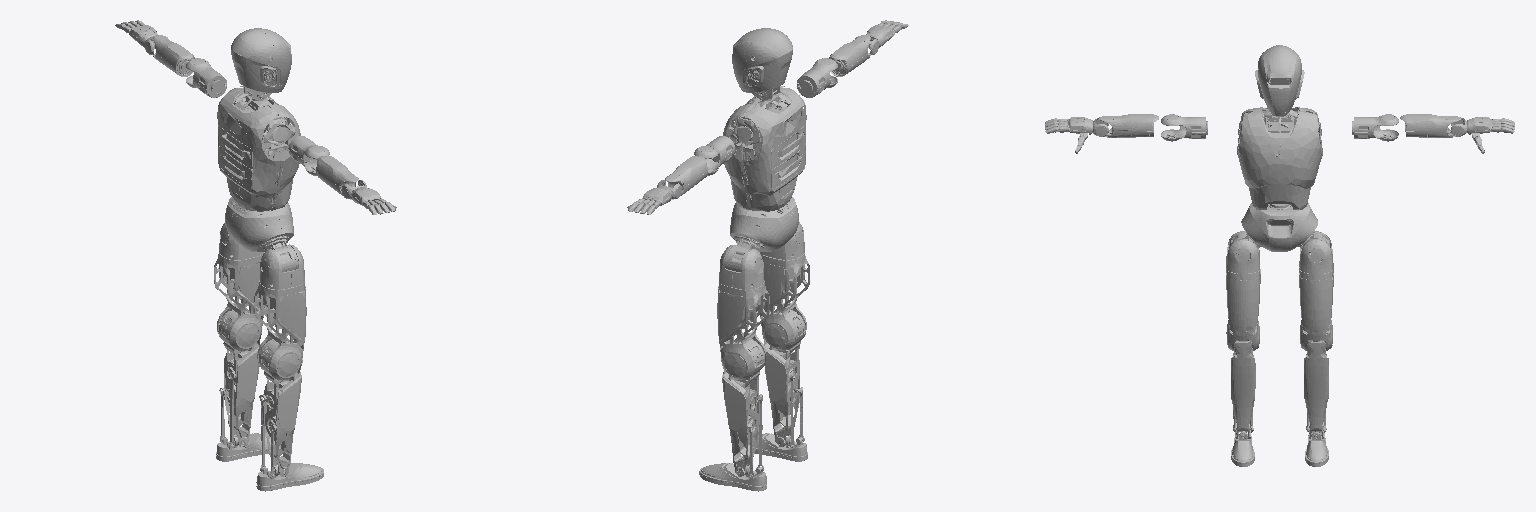
--- Facts derived from the render (not from the file) ---
Views: 3 orthographic renders of the robot side by side, from view 1: azimuth 30°, elevation 25°; view 2: azimuth 150°, elevation 25°; view 3: azimuth 270°, elevation 25°.
Robot: urdf5 — 31 links, 30 joints (21 revolute, 9 fixed); root link base; default pose: all joints at 0.
Visible links, largest first — view 1: waist_pitch, right_hip_yaw, right_knee_pitch, head_pitch, left_knee_pitch, left_hip_yaw, base, right_hip_roll, right_ankle_roll, left_shoulder_yaw, left_elbow_yaw, right_elbow_yaw (+6 smaller); view 2: waist_pitch, left_hip_yaw, left_knee_pitch, head_pitch, right_knee_pitch, right_hip_yaw, base, left_hip_roll, left_ankle_roll, right_shoulder_yaw, right_elbow_yaw, left_elbow_yaw (+6 smaller); view 3: waist_pitch, base, head_pitch, right_hip_yaw, left_hip_yaw, right_knee_pitch, left_knee_pitch, left_elbow_yaw, right_elbow_yaw, left_wrist_roll, right_wrist_roll, left_hip_roll (+5 smaller).
Boxes of the visible links, x1,y1,x2,y2 form: waist_pitch: (217, 86, 300, 211); right_hip_yaw: (254, 280, 306, 380); right_knee_pitch: (259, 339, 302, 478); head_pitch: (231, 28, 291, 99); left_knee_pitch: (218, 310, 261, 448); left_hip_yaw: (214, 252, 264, 350); base: (225, 197, 293, 251); right_hip_roll: (260, 244, 304, 289); right_ankle_roll: (256, 463, 323, 491); left_shoulder_yaw: (186, 58, 226, 97); left_elbow_yaw: (153, 35, 194, 76); right_elbow_yaw: (316, 156, 358, 199); waist_pitch: (723, 86, 806, 211); left_hip_yaw: (717, 281, 769, 379); left_knee_pitch: (721, 339, 764, 478); head_pitch: (732, 28, 792, 99); right_knee_pitch: (762, 310, 805, 449); right_hip_yaw: (759, 252, 809, 350); base: (730, 197, 798, 251); left_hip_roll: (719, 245, 764, 289); left_ankle_roll: (699, 463, 766, 491); right_shoulder_yaw: (797, 58, 837, 97); right_elbow_yaw: (829, 35, 870, 76); left_elbow_yaw: (665, 156, 707, 199); waist_pitch: (1237, 107, 1322, 209); base: (1241, 203, 1317, 251); head_pitch: (1255, 45, 1304, 116); right_hip_yaw: (1226, 268, 1260, 350); left_hip_yaw: (1299, 267, 1333, 350); right_knee_pitch: (1231, 331, 1255, 438); left_knee_pitch: (1304, 331, 1328, 438); left_elbow_yaw: (1400, 114, 1460, 137); right_elbow_yaw: (1098, 114, 1158, 137); left_wrist_roll: (1451, 117, 1514, 153); right_wrist_roll: (1045, 117, 1108, 153); left_hip_roll: (1299, 231, 1333, 273).
Size in the robot's own frame: 0.295 by 1.86 by 1.73 metres.
22 mesh visuals loaded from 31 distinct referenced files (22 binary STL); not drawn: 9 (reference not matched to a file when rendering).

URDF robot description (urdf5):
<?xml version="1.0" encoding="utf-8"?>
<!-- This URDF was automatically created by SolidWorks to URDF Exporter! Originally created by Stephen Brawner ([email redacted]) 
     Commit Version: 1.6.0-4-g7f85cfe  Build Version: 1.6.7995.38578
     For more information, please see http://wiki.ros.org/sw_urdf_exporter -->
<robot
  name="urdf5">
  <mujoco>
    <compiler meshdir="../meshes" discardvisual="false"/>
  </mujoco>

  <!-- [CAUTION] uncomment when convert to mujoco -->
     <!-- <link name="world"></link>
  <joint name="floating_base_joint" type="floating">
    <parent link="world"/>
      <child link="base"/>
    </joint>
   -->
  <link
    name="base">
    <inertial>
      <origin
        xyz="-0.0017221 9.9273E-06 0.078502"
        rpy="0 0 0" />
      <mass
        value="8.80559204" />
      <inertia
        ixx="0.06505901"
        ixy="-0.00001504"
        ixz="0.00007043"
        iyy="0.03392367"
        iyz="-0.00000057"
        izz="0.06060049" />
    </inertial>
    <visual>
      <origin
        xyz="0 0 0"
        rpy="0 0 0" />
      <geometry>
        <mesh
          filename="../meshes/base_link.STL" />
      </geometry>
      <material
        name="">
        <color
          rgba="0.75294 0.75294 0.75294 1" />
      </material>
    </visual>
    <!-- <collision>
      <origin
        xyz="0 0 0"
        rpy="0 0 0" />
      <geometry>
        <mesh
          filename="../meshes/base_link.STL" />
      </geometry>
    </collision> -->
    <collision>
      <origin
        xyz="0 0 0.3"
        rpy="0 0 0" />
      <geometry>
        <box
          size="0.2 0.25 0.4" />
      </geometry>
    </collision>
  </link>
  <link
    name="0waist_yaw">
    <inertial>
      <origin
        xyz="0.02077 0.002139 0.044432"
        rpy="0 0 0" />
      <mass
        value="1.35227213" />
      <inertia
        ixx="0.00145099"
        ixy="0.00001293"
        ixz="-0.0002088"
        iyy="0.00155537"
        iyz="0.00001574"
        izz="0.00144129" />
    </inertial>
    <visual>
      <origin
        xyz="0 0 0"
        rpy="0 0 0" />
      <geometry>
        <mesh
          filename="../meshes/0waist_yaw.STL" />
      </geometry>
      <material
        name="">
        <color
          rgba="0.75294 0.75294 0.75294 1" />
      </material>
    </visual>
    <!--collision>
      <origin
        xyz="0 0 0"
        rpy="0 0 0" />
      <geometry>
        <mesh
          filename="../meshes/0waist_yaw.STL" />
      </geometry>
    </collision-->
  </link>
  <joint
    name="0waist_yaw"
    type="revolute">
    <origin
      xyz="0.0010247 0 0.16995"
      rpy="0 0 0" />
    <parent
      link="base" />
    <child
      link="0waist_yaw" />
    <axis
      xyz="0 0 1" />
    <limit
      lower="-3.14"
      upper="3.14"
      effort="300.0"
      velocity="10.0" />
  </joint>
  <link
    name="waist_pitch">
    <inertial>
      <origin
        xyz="-0.0384853936557413 0.0017960963283048 0.164731708770369"
        rpy="0 0 0" />
      <mass
        value="10.28228466" />
      <inertia
        ixx="0.19115274"
        ixy="-0.00014699"
        ixz="-0.00225152"
        iyy="0.11520537"
        iyz="0.00151447"
        izz="0.13908471" />
    </inertial>
    <visual>
      <origin
        xyz="0 0 0"
        rpy="0 0 0" />
      <geometry>
        <mesh
          filename="../meshes/waist_pitch.STL" />
      </geometry>
      <material
        name="">
        <color
          rgba="0.752941176470588 0.752941176470588 0.752941176470588 1" />
      </material>
    </visual>
    <!--collision>
      <origin
        xyz="0 0 0"
        rpy="0 0 0" />
      <geometry>
        <mesh
          filename="../meshes/waist_pitch.STL" />
      </geometry>
    </collision-->
  </link>
  <joint
    name="waist_pitch"
    type="fixed">
    <origin
      xyz="0.03 0 0.0555"
      rpy="0 0 0" />
    <parent
      link="0waist_yaw" />
    <child
      link="waist_pitch" />
    <axis
      xyz="0 1 0" />
    <limit
      lower="-3.14"
      upper="3.14"
      effort="300.0"
      velocity="10.0" />
  </joint>
  <link
    name="1left_shoulder_pitch">
    <inertial>
      <origin
        xyz="0.011253 0.034606 0.0013962"
        rpy="0 0 0" />
      <mass
        value="1.24676052" />
      <inertia
        ixx="0.00150509"
        ixy="-0.00005887"
        ixz="0.00007608"
        iyy="0.00147738"
        iyz="0.00009631"
        izz="0.00135553" />
    </inertial>
    <visual>
      <origin
        xyz="0 0 0"
        rpy="0 0 0" />
      <geometry>
        <mesh
          filename="../meshes/1left_shoulder_pitch.STL" />
      </geometry>
      <material
        name="">
        <color
          rgba="0.75294 0.75294 0.75294 1" />
      </material>
    </visual>
    <!--collision>
      <origin
        xyz="0 0 0"
        rpy="0 0 0" />
      <geometry>
        <mesh
          filename="../meshes/1left_shoulder_pitch.STL" />
      </geometry>
    </collision-->
  </link>
  <joint
    name="1left_shoulder_pitch"
    type="revolute">
    <origin
      xyz="-0.045 0.16306 0.26719"
      rpy="0.13963 0 0" />
    <parent
      link="waist_pitch" />
    <child
      link="1left_shoulder_pitch" />
    <axis
      xyz="0 1 0" />
    <limit
      lower="-3.14"
      upper="3.14"
      effort="300.0"
      velocity="10.0" />
  </joint>
  <link
    name="1left_shoulder_roll">
    <inertial>
      <origin
        xyz="0.0068529 0.02305 0.0095938"
        rpy="0 0 0" />
      <mass
        value="0.24916820" />
      <inertia
        ixx="0.00054423"
        ixy="0.00004049"
        ixz="0.00001947"
        iyy="0.00059850"
        iyz="-0.00003069"
        izz="0.00069187" />
    </inertial>
    <visual>
      <origin
        xyz="0 0 0"
        rpy="0 0 0" />
      <geometry>
        <mesh
          filename="../meshes/1left_shoulder_roll.STL" />
      </geometry>
      <material
        name="">
        <color
          rgba="0.75294 0.75294 0.75294 1" />
      </material>
    </visual>
    <!--collision>
      <origin
        xyz="0 0 0"
        rpy="0 0 0" />
      <geometry>
        <mesh
          filename="../meshes/1left_shoulder_roll.STL" />
      </geometry>
    </collision-->
  </link>
  <joint
    name="1left_shoulder_roll"
    type="revolute">
    <origin
      xyz="0 0.048 -0.015"
      rpy="-0.13963 0 0" />
    <parent
      link="1left_shoulder_pitch" />
    <child
      link="1left_shoulder_roll" />
    <axis
      xyz="1 0 0" />
    <limit
      lower="-3.14"
      upper="3.14"
      effort="300.0"
      velocity="10.0" />
  </joint>
  <link
    name="left_shoulder_yaw">
    <inertial>
      <origin
        xyz="-0.00050778 0.064908 0.0015998"
        rpy="0 0 0" />
      <mass
        value="0.91467672" />
      <inertia
        ixx="0.00191070"
        ixy="0.00001224"
        ixz="-0.00000012"
        iyy="0.00091729"
        iyz="-0.00004757"
        izz="0.00184017" />
    </inertial>
    <visual>
      <origin
        xyz="0 0 0"
        rpy="0 0 0" />
      <geometry>
        <mesh
          filename="../meshes/left_shoulder_yaw.STL" />
      </geometry>
      <material
        name="">
        <color
          rgba="0.75294 0.75294 0.75294 1" />
      </material>
    </visual>
    <!--collision>
      <origin
        xyz="0 0 0"
        rpy="0 0 0" />
      <geometry>
        <mesh
          filename="../meshes/left_shoulder_yaw.STL" />
      </geometry>
    </collision-->
  </link>
  <joint
    name="left_shoulder_yaw"
    type="fixed">
    <origin
      xyz="0 0.07205 0.01237"
      rpy="0 0 0" />
    <parent
      link="1left_shoulder_roll" />
    <child
      link="left_shoulder_yaw" />
    <axis
      xyz="0 1 0" />
    <limit
      lower="-3.14"
      upper="3.14"
      effort="300.0"
      velocity="10.0" />
  </joint>
  <link
    name="1left_elbow_pitch">
    <inertial>
      <origin
        xyz="-0.0013804 0.014214 -0.0011072"
        rpy="0 0 0" />
      <mass
        value="0.96823646" />
      <inertia
        ixx="0.00110137"
        ixy="0.00002929"
        ixz="-0.00000334"
        iyy="0.00089963"
        iyz="0.00003570"
        izz="0.00109827" />
    </inertial>
    <visual>
      <origin
        xyz="0 0 0"
        rpy="0 0 0" />
      <geometry>
        <mesh
          filename="../meshes/1left_elbow_pitch.STL" />
      </geometry>
      <material
        name="">
        <color
          rgba="0.75294 0.75294 0.75294 1" />
      </material>
    </visual>
    <!--collision>
      <origin
        xyz="0 0 0"
        rpy="0 0 0" />
      <geometry>
        <mesh
          filename="../meshes/1left_elbow_pitch.STL" />
      </geometry>
    </collision-->
  </link>
  <joint
    name="1left_elbow_pitch"
    type="revolute">
    <origin
      xyz="0 0.142 0"
      rpy="0 0 0" />
    <parent
      link="left_shoulder_yaw" />
    <child
      link="1left_elbow_pitch" />
    <axis
      xyz="0 0 1" />
    <limit
      lower="-3.14"
      upper="3.14"
      effort="300.0"
      velocity="10.0" />
  </joint>
  <link
    name="left_elbow_yaw">
    <inertial>
      <origin
        xyz="-4.2404E-06 0.090739 -0.0022072"
        rpy="0 0 0" />
      <mass
        value="1.61695316" />
      <inertia
        ixx="0.00444254"
        ixy="0.00000405"
        ixz="0.00000286"
        iyy="0.00112056"
        iyz="0.00022804"
        izz="0.00428917" />
    </inertial>
    <visual>
      <origin
        xyz="0 0 0"
        rpy="0 0 0" />
      <geometry>
        <mesh
          filename="../meshes/left_elbow_yaw.STL" />
      </geometry>
      <material
        name="">
        <color
          rgba="0.75294 0.75294 0.75294 1" />
      </material>
    </visual>
    <!--collision>
      <origin
        xyz="0 0 0"
        rpy="0 0 0" />
      <geometry>
        <mesh
          filename="../meshes/left_elbow_yaw.STL" />
      </geometry>
    </collision-->
  </link>
  <joint
    name="left_elbow_yaw"
    type="fixed">
    <origin
      xyz="-0.0081851 0.0684 -5.392E-05"
      rpy="0 0 0" />
    <parent
      link="1left_elbow_pitch" />
    <child
      link="left_elbow_yaw" />
    <axis
      xyz="0 1 0" />
    <limit
      lower="-3.14"
      upper="3.14"
      effort="300.0"
      velocity="10.0" />
  </joint>
  <link
    name="1left_wrist_pitch">
    <inertial>
      <origin
        xyz="0.00847041858689116 0.00453400666111203 -0.000647129716278116"
        rpy="0 0 0" />
      <mass
        value="0.68194696" />
      <inertia
        ixx="0.00031510"
        ixy="0.00000000"
        ixz="-0.00000302"
        iyy="0.00038513"
        iyz="-0.00000011"
        izz="0.00035596" />
    </inertial>
    <visual>
      <origin
        xyz="0 0 0"
        rpy="0 0 0" />
      <geometry>
        <mesh
          filename="../meshes/1left_wrist_pitch.STL" />
      </geometry>
      <material
        name="">
        <color
          rgba="0.752941176470588 0.752941176470588 0.752941176470588 1" />
      </material>
    </visual>
    <!--collision>
      <origin
        xyz="0 0 0"
        rpy="0 0 0" />
      <geometry>
        <mesh
          filename="../meshes/1left_wrist_pitch.STL" />
      </geometry>
    </collision-->
  </link>
  <joint
    name="1left_wrist_pitch"
    type="revolute">
    <origin
      xyz="0 0.203 5.392E-05"
      rpy="0 0 0" />
    <parent
      link="left_elbow_yaw" />
    <child
      link="1left_wrist_pitch" />
    <axis
      xyz="0 0 1" />
    <limit
      lower="-3.14"
      upper="3.14"
      effort="300.0"
      velocity="10.0" />
  </joint>
  <link
    name="left_wrist_roll">
    <inertial>
      <origin
        xyz="-0.0026765098743331 0.0932230814686578 -0.00310005917547751"
        rpy="0 0 0" />
      <mass
        value="0.70000000" />
      <inertia
        ixx="0.00164249"
        ixy="0.00007715"
        ixz="0.00021137"
        iyy="0.00089043"
        iyz="-0.00010543"
        izz="0.00217172" />
    </inertial>
    <visual>
      <origin
        xyz="0 0 0"
        rpy="0 0 0" />
      <geometry>
        <mesh
          filename="../meshes/left_wrist_roll.STL" />
      </geometry>
      <material
        name="">
        <color
          rgba="0.752941176470588 0.752941176470588 0.752941176470588 1" />
      </material>
    </visual>
    <!--collision>
      <origin
        xyz="0 0 0"
        rpy="0 0 0" />
      <geometry>
        <mesh
          filename="../meshes/left_wrist_roll.STL" />
      </geometry>
    </collision-->
  </link>
  <joint
    name="left_wrist_roll"
    type="fixed">
    <origin
      xyz="0.0081861 0.005 0.00024608"
      rpy="0 0 0" />
    <parent
      link="1left_wrist_pitch" />
    <child
      link="left_wrist_roll" />
    <axis
      xyz="1 0 0" />
    <limit
      lower="-3.14"
      upper="3.14"
      effort="300.0"
      velocity="10.0" />
  </joint>
  <link
    name="1right_shoulder_pitch">
    <inertial>
      <origin
        xyz="0.0112521341386398 -0.0345906481596432 0.00140406395538412"
        rpy="0 0 0" />
      <mass
        value="1.24685052" />
      <inertia
        ixx="0.00150547"
        ixy="0.00005893"
        ixz="0.00007617"
        iyy="0.00147760"
        iyz="-0.00009651"
        izz="0.00135577" />
    </inertial>
    <visual>
      <origin
        xyz="0 0 0"
        rpy="0 0 0" />
      <geometry>
        <mesh
          filename="../meshes/1right_shoulder_pitch.STL" />
      </geometry>
      <material
        name="">
        <color
          rgba="0.752941176470588 0.752941176470588 0.752941176470588 1" />
      </material>
    </visual>
    <!--collision>
      <origin
        xyz="0 0 0"
        rpy="0 0 0" />
      <geometry>
        <mesh
          filename="../meshes/1right_shoulder_pitch.STL" />
      </geometry>
    </collision-->
  </link>
  <joint
    name="1right_shoulder_pitch"
    type="revolute">
    <origin
      xyz="-0.045 -0.16306 0.26719"
      rpy="-0.13963 0 0" />
    <parent
      link="waist_pitch" />
    <child
      link="1right_shoulder_pitch" />
    <axis
      xyz="0 1 0" />
    <limit
      lower="-3.14"
      upper="3.14"
      effort="300.0"
      velocity="10.0" />
  </joint>
  <link
    name="1right_shoulder_roll">
    <inertial>
      <origin
        xyz="0.00684462181795377 -0.023042827171319 0.00959240613331935"
        rpy="0 0 0" />
      <mass
        value="0.24917773" />
      <inertia
        ixx="0.00055212"
        ixy="-0.00003627"
        ixz="0.00001721"
        iyy="0.00060479"
        iyz="0.00003340"
        izz="0.00070132" />
    </inertial>
    <visual>
      <origin
        xyz="0 0 0"
        rpy="0 0 0" />
      <geometry>
        <mesh
          filename="../meshes/1right_shoulder_roll.STL" />
      </geometry>
      <material
        name="">
        <color
          rgba="0.752941176470588 0.752941176470588 0.752941176470588 1" />
      </material>
    </visual>
    <!--collision>
      <origin
        xyz="0 0 0"
        rpy="0 0 0" />
      <geometry>
        <mesh
          filename="../meshes/1right_shoulder_roll.STL" />
      </geometry>
    </collision-->
  </link>
  <joint
    name="1right_shoulder_roll"
    type="revolute">
    <origin
      xyz="0 -0.048 -0.015"
      rpy="0.13963 0 0" />
    <parent
      link="1right_shoulder_pitch" />
    <child
      link="1right_shoulder_roll" />
    <axis
      xyz="1 0 0" />
    <limit
      lower="-3.14"
      upper="3.14"
      effort="300.0"
      velocity="10.0" />
  </joint>
  <link
    name="right_shoulder_yaw">
    <inertial>
      <origin
        xyz="-0.000506858484631955 -0.0645515552123688 0.00168134263284647"
        rpy="0 0 0" />
      <mass
        value="0.91457840" />
      <inertia
        ixx="0.00189816"
        ixy="-0.00001244"
        ixz="-0.00000038"
        iyy="0.00091718"
        iyz="0.00005251"
        izz="0.00182921" />
    </inertial>
    <visual>
      <origin
        xyz="0 0 0"
        rpy="0 0 0" />
      <geometry>
        <mesh
          filename="../meshes/right_shoulder_yaw.STL" />
      </geometry>
      <material
        name="">
        <color
          rgba="0.752941176470588 0.752941176470588 0.752941176470588 1" />
      </material>
    </visual>
    <!--collision>
      <origin
        xyz="0 0 0"
        rpy="0 0 0" />
      <geometry>
        <mesh
          filename="../meshes/right_shoulder_yaw.STL" />
      </geometry>
    </collision-->
  </link>
  <joint
    name="right_shoulder_yaw"
    type="fixed">
    <origin
      xyz="0 -0.07205 0.01237"
      rpy="0 0 0" />
    <parent
      link="1right_shoulder_roll" />
    <child
      link="right_shoulder_yaw" />
    <axis
      xyz="0 1 0" />
    <limit
      lower="-3.14"
      upper="3.14"
      effort="300.0"
      velocity="10.0" />
  </joint>
  <link
    name="1right_elbow_pitch">
    <inertial>
      <origin
        xyz="-0.00147698397475442 -0.0138263638011724 -0.000807664369872563"
        rpy="0 0 0" />
      <mass
        value="0.97128107" />
      <inertia
        ixx="0.00110702"
        ixy="-0.00002804"
        ixz="-0.00000244"
        iyy="0.00090197"
        iyz="-0.00003835"
        izz="0.00110252" />
    </inertial>
    <visual>
      <origin
        xyz="0 0 0"
        rpy="0 0 0" />
      <geometry>
        <mesh
          filename="../meshes/1right_elbow_pitch.STL" />
      </geometry>
      <material
        name="">
        <color
          rgba="0.752941176470588 0.752941176470588 0.752941176470588 1" />
      </material>
    </visual>
    <!--collision>
      <origin
        xyz="0 0 0"
        rpy="0 0 0" />
      <geometry>
        <mesh
          filename="../meshes/1right_elbow_pitch.STL" />
      </geometry>
    </collision-->
  </link>
  <joint
    name="1right_elbow_pitch"
    type="revolute">
    <origin
      xyz="0 -0.142 0"
      rpy="0 0 0" />
    <parent
      link="right_shoulder_yaw" />
    <child
      link="1right_elbow_pitch" />
    <axis
      xyz="0 0 1" />
    <limit
      lower="-3.14"
      upper="3.14"
      effort="300.0"
      velocity="10.0" />
  </joint>
  <link
    name="right_elbow_yaw">
    <inertial>
      <origin
        xyz="-8.33407370061032E-06 -0.0907632773291066 -0.00221092912571186"
        rpy="0 0 0" />
      <mass
        value="1.61873767" />
      <inertia
        ixx="0.00446047"
        ixy="-0.00000054"
        ixz="0.00000211"
        iyy="0.00112527"
        iyz="-0.00022522"
        izz="0.00430811" />
    </inertial>
    <visual>
      <origin
        xyz="0 0 0"
        rpy="0 0 0" />
      <geometry>
        <mesh
          filename="../meshes/right_elbow_yaw.STL" />
      </geometry>
      <material
        name="">
        <color
          rgba="0.752941176470588 0.752941176470588 0.752941176470588 1" />
      </material>
    </visual>
    <!--collision>
      <origin
        xyz="0 0 0"
        rpy="0 0 0" />
      <geometry>
        <mesh
          filename="../meshes/right_elbow_yaw.STL" />
      </geometry>
    </collision-->
  </link>
  <joint
    name="right_elbow_yaw"
    type="fixed">
    <origin
      xyz="-0.0081851 -0.0684 -5.3926E-05"
      rpy="0 0 0" />
    <parent
      link="1right_elbow_pitch" />
    <child
      link="right_elbow_yaw" />
    <axis
      xyz="0 1 0" />
    <limit
      lower="-3.14"
      upper="3.14"
      effort="300.0"
      velocity="10.0" />
  </joint>
  <link
    name="1right_wrist_pitch">
    <inertial>
      <origin
        xyz="0.00875047888413561 -0.00468416782029091 -0.000970628197680568"
        rpy="0 0 0" />
      <mass
        value="0.67826839" />
      <inertia
        ixx="0.00031112"
        ixy="-0.00000022"
        ixz="-0.00000303"
        iyy="0.00038076"
        iyz="0.00000011"
        izz="0.00035533" />
    </inertial>
    <visual>
      <origin
        xyz="0 0 0"
        rpy="0 0 0" />
      <geometry>
        <mesh
          filename="../meshes/1right_wrist_pitch.STL" />
      </geometry>
      <material
        name="">
        <color
          rgba="0.752941176470588 0.752941176470588 0.752941176470588 1" />
      </material>
    </visual>
    <!--collision>
      <origin
        xyz="0 0 0"
        rpy="0 0 0" />
      <geometry>
        <mesh
          filename="../meshes/1right_wrist_pitch.STL" />
      </geometry>
    </collision-->
  </link>
  <joint
    name="1right_wrist_pitch"
    type="revolute">
    <origin
      xyz="0 -0.203 5.3926E-05"
      rpy="0 0 0" />
    <parent
      link="right_elbow_yaw" />
    <child
      link="1right_wrist_pitch" />
    <axis
      xyz="0 0 1" />
    <limit
      lower="-3.14"
      upper="3.14"
      effort="300.0"
      velocity="10.0" />
  </joint>
  <link
    name="right_wrist_roll">
    <inertial>
      <origin
        xyz="-0.0026743901109887 -0.0932300829591381 -0.00310237469926988"
        rpy="0 0 0" />
      <mass
        value="0.70000000" />
      <inertia
        ixx="0.00202508"
        ixy="-0.00007043"
        ixz="0.00018728"
        iyy="0.00086803"
        iyz="0.00007448"
        izz="0.00254029" />
    </inertial>
    <visual>
      <origin
        xyz="0 0 0"
        rpy="0 0 0" />
      <geometry>
        <mesh
          filename="../meshes/right_wrist_roll.STL" />
      </geometry>
      <material
        name="">
        <color
          rgba="0.752941176470588 0.752941176470588 0.752941176470588 1" />
      </material>
    </visual>
    <!--collision>
      <origin
        xyz="0 0 0"
        rpy="0 0 0" />
      <geometry>
        <mesh
          filename="../meshes/right_wrist_roll.STL" />
      </geometry>
    </collision-->
  </link>
  <joint
    name="right_wrist_roll"
    type="fixed">
    <origin
      xyz="0.0081861 -0.005 -5.3126E-05"
      rpy="0 0 0" />
    <parent
      link="1right_wrist_pitch" />
    <child
      link="right_wrist_roll" />
    <axis
      xyz="1 0 0" />
    <limit
      lower="-3.14"
      upper="3.14"
      effort="300.0"
      velocity="10.0" />
  </joint>
  <link
    name="head_yaw">
    <inertial>
      <origin
        xyz="-1.11251816561214E-08 2.04794399136492E-09 0.0286489164729257"
        rpy="0 0 0" />
      <mass
        value="0.40000000" />
      <inertia
        ixx="0.00015876"
        ixy="0.00000029"
        ixz="-0.00000001"
        iyy="0.00014962"
        iyz="0.00000000"
        izz="0.00009530" />
    </inertial>
    <visual>
      <origin
        xyz="0 0 0"
        rpy="0 0 0" />
      <geometry>
        <mesh
          filename="../meshes/head_yaw.STL" />
      </geometry>
      <material
        name="">
        <color
          rgba="0.752941176470588 0.752941176470588 0.752941176470588 1" />
      </material>
    </visual>
    <!--collision>
      <origin
        xyz="0 0 0"
        rpy="0 0 0" />
      <geometry>
        <mesh
          filename="../meshes/head_yaw.STL" />
      </geometry>
    </collision-->
  </link>
  <joint
    name="head_yaw"
    type="fixed">
    <origin
      xyz="-0.044993 -0.00045296 0.3395"
      rpy="0 0 0" />
    <parent
      link="waist_pitch" />
    <child
      link="head_yaw" />
    <axis
      xyz="0 0 1" />
    <limit
      lower="-3.14"
      upper="3.14"
      effort="300.0"
      velocity="10.0" />
  </joint>
  <link
    name="head_pitch">
    <inertial>
      <origin
        xyz="-0.00040328068000511 -0.000228807560410491 0.098250037733404"
        rpy="0 0 0" />
      <mass
        value="2.50000000" />
      <inertia
        ixx="0.01150944"
        ixy="-0.00007772"
        ixz="-0.00024645"
        iyy="0.01344915"
        iyz="-0.00005617"
        izz="0.01041923" />
    </inertial>
    <visual>
      <origin
        xyz="0 0 0"
        rpy="0 0 0" />
      <geometry>
        <mesh
          filename="../meshes/head_pitch.STL" />
      </geometry>
      <material
        name="">
        <color
          rgba="0.752941176470588 0.752941176470588 0.752941176470588 1" />
      </material>
    </visual>
    <!--collision>
      <origin
        xyz="0 0 0"
        rpy="0 0 0" />
      <geometry>
        <mesh
          filename="../meshes/head_pitch.STL" />
      </geometry>
    </collision-->
  </link>
  <joint
    name="head_pitch"
    type="fixed">
    <origin
      xyz="0 0 0.032"
      rpy="0 0 0" />
    <parent
      link="head_yaw" />
    <child
      link="head_pitch" />
    <axis
      xyz="0 1 0" />
    <limit
      lower="-3.14"
      upper="3.14"
      effort="300.0"
      velocity="10.0" />
  </joint>
  <link
    name="left_hip_pitch">
    <inertial>
      <origin
        xyz="0.000953472951460345 0.0567455295656464 4.80867864948303E-05"
        rpy="0 0 0" />
      <mass
        value="1.82518001" />
      <inertia
        ixx="0.00312969"
        ixy="-0.00008870"
        ixz="-0.00000264"
        iyy="0.00285304"
        iyz="0.00000042"
        izz="0.00311486" />
    </inertial>
    <visual>
      <origin
        xyz="0 0 0"
        rpy="0 0 0" />
      <geometry>
        <mesh
          filename="../meshes/left_hip_pitch.STL" />
      </geometry>
      <material
        name="">
        <color
          rgba="0.752941176470588 0.752941176470588 0.752941176470588 1" />
      </material>
    </visual>
    <!--collision>
      <origin
        xyz="0 0 0"
        rpy="0 0 0" />
      <geometry>
        <mesh
          filename="../meshes/left_hip_pitch.STL" />
      </geometry>
    </collision-->
     
  </link>
  <joint
    name="left_hip_pitch"
    type="revolute">
    <origin
      xyz="0.0010247 0.096429 0.027623"
      rpy="-0.7854 0 0" />
    <parent
      link="base" />
    <child
      link="left_hip_pitch" />
    <axis
      xyz="0 1 0" />
    <limit
      lower="-3.14"
      upper="3.14"
      effort="300.0"
      velocity="10.0" />
  </joint>
  <link
    name="left_hip_roll">
    <inertial>
      <origin
        xyz="-0.00213526947509337 3.06463661947642E-07 -0.0290152254653168"
        rpy="0 0 0" />
      <mass
        value="0.880530480217801" />
      <inertia
        ixx="0.00232319"
        ixy="0.00000000"
        ixz="0.00003524"
        iyy="0.00296419"
        iyz="0.00000004"
        izz="0.00337624" />
    </inertial>
    <visual>
      <origin
        xyz="0 0 0"
        rpy="0 0 0" />
      <geometry>
        <mesh
          filename="../meshes/left_hip_roll.STL" />
      </geometry>
      <material
        name="">
        <color
          rgba="0.752941176470588 0.752941176470588 0.752941176470588 1" />
      </material>
    </visual>
    <!--collision>
      <origin
        xyz="0 0 0"
        rpy="0 0 0" />
      <geometry>
        <mesh
          filename="../meshes/left_hip_roll.STL" />
      </geometry>
    </collision-->

  </link>
  <joint
    name="left_hip_roll"
    type="revolute">
    <origin
      xyz="0 0.067622 0"
      rpy="0.7854 0 0" />
    <parent
      link="left_hip_pitch" />
    <child
      link="left_hip_roll" />
    <axis
      xyz="1 0 0" />
    <limit
      lower="-3.14"
      upper="3.14"
      effort="300.0"
      velocity="10.0" />
  </joint>
  <link
    name="left_hip_yaw">
    <inertial>
      <origin
        xyz="0.00577813494644455 0.000465316699057416 -0.153060479446203"
        rpy="0 0 0" />
      <mass
        value="3.95426263" />
      <inertia
        ixx="0.05148497"
        ixy="0.00002749"
        ixz="0.00132867"
        iyy="0.05199675"
        iyz="0.00019401"
        izz="0.01283185" />
    </inertial>
    <visual>
      <origin
        xyz="0 0 0"
        rpy="0 0 0" />
      <geometry>
        <mesh
          filename="../meshes/left_hip_yaw.STL" />
      </geometry>
      <material
        name="">
        <color
          rgba="0.752941176470588 0.752941176470588 0.752941176470588 1" />
      </material>
    </visual>
    <!--collision>
      <origin
        xyz="0 0 0"
        rpy="0 0 0" />
      <geometry>
        <mesh
          filename="../meshes/left_hip_yaw.STL" />
      </geometry>
    </collision-->
    <collision>
      <origin
        xyz="0 0 -0.12"
        rpy="0 0 0" />
      <geometry>
        <box
          size="0.08 0.08 0.3"
        />
      </geometry>
    </collision>
  </link>
  <joint
    name="left_hip_yaw"
    type="revolute">
    <origin
      xyz="0.0018703 0 -0.074158"
      rpy="0 0 0" />
    <parent
      link="left_hip_roll" />
    <child
      link="left_hip_yaw" />
    <axis
      xyz="0 0 1" />
    <limit
      lower="-3.14"
      upper="3.14"
      effort="300.0"
      velocity="10.0" />
  </joint>
  <link
    name="left_knee_pitch">
    <inertial>
      <origin
        xyz="0.00390324980678863 -0.000270854412135202 -0.157791912336165"
        rpy="0 0 0" />
      <mass
        value="6.59571899" />
      <inertia
        ixx="0.10730579"
        ixy="-0.00003258"
        ixz="-0.00046619"
        iyy="0.10936708"
        iyz="0.00196482"
        izz="0.01215190" />
    </inertial>
    <visual>
      <origin
        xyz="0 0 0"
        rpy="0 0 0" />
      <geometry>
        <mesh
          filename="../meshes/left_knee_pitch.STL" />
      </geometry>
      <material
        name="">
        <color
          rgba="0.752941176470588 0.752941176470588 0.752941176470588 1" />
      </material>
    </visual>
    <!--collision>
      <origin
        xyz="0 0 0"
        rpy="0 0 0" />
      <geometry>
        <mesh
          filename="../meshes/left_knee_pitch.STL" />
      </geometry>
    </collision-->
    <collision>
      <origin
        xyz="0 0 -0.22"
        rpy="0 0.05 0" />
      <geometry>
        <box
          size="0.08 0.08 0.4"
        />
      </geometry>
    </collision>
  </link>
  <joint
    name="left_knee_pitch"
    type="revolute">
    <origin
      xyz="-0.009965 0 -0.30584"
      rpy="0 0 0.00011549" />
    <parent
      link="left_hip_yaw" />
    <child
      link="left_knee_pitch" />
    <axis
      xyz="0 1 0" />
    <limit
      lower="-3.14"
      upper="3.14"
      effort="300.0"
      velocity="10.0" />
  </joint>
  <link
    name="left_ankle_pitch">
    <inertial>
      <origin
        xyz="-2.2892518658198E-06 -2.84522308491297E-09 2.93525503902714E-08"
        rpy="0 0 0" />
      <mass
        value="0.0512288649062511" />
      <inertia
        ixx="0.00000658"
        ixy="0.00000000"
        ixz="0.00000000"
        iyy="0.00000670"
        iyz="0.00000000"
        izz="0.00000917" />
    </inertial>
    <visual>
      <origin
        xyz="0 0 0"
        rpy="0 0 0" />
      <geometry>
        <mesh
          filename="../meshes/left_ankle_pitch.STL" />
      </geometry>
      <material
        name="">
        <color
          rgba="0.686274509803922 0.658823529411765 0.63921568627451 1" />
      </material>
    </visual>
    <!--collision>
      <origin
        xyz="0 0 0"
        rpy="0 0 0" />
      <geometry>
        <mesh
          filename="../meshes/left_ankle_pitch.STL" />
      </geometry>
    </collision-->
  </link>
  <joint
    name="left_ankle_pitch"
    type="revolute">
    <origin
      xyz="0.0014615 0 -0.43469"
      rpy="0 0 0" />
    <parent
      link="left_knee_pitch" />
    <child
      link="left_ankle_pitch" />
    <axis
      xyz="0 1 0" />
    <limit
      upper="3.14"
      lower="-3.14"
      effort="300.0"
      velocity="10.0" />
  </joint>
  <link
    name="left_ankle_roll">
    <inertial>
      <origin
        xyz="0.030758703687536 0.00059687504364378 -0.0253089859536298"
        rpy="0 0 0" />
      <mass
        value="1.87142690120786" />
      <inertia
        ixx="0.00619617"
        ixy="-0.00011713"
        ixz="0.00243803"
        iyy="0.01486650"
        iyz="0.00027589"
        izz="0.01053870" />
    </inertial>
    <visual>
      <origin
        xyz="0 0 0"
        rpy="0 0 0" />
      <geometry>
        <mesh
          filename="../meshes/left_ankle_roll.STL" />
      </geometry>
      <material
        name="">
        <color
          rgba="0.752941176470588 0.752941176470588 0.752941176470588 1" />
      </material>
    </visual>
    <!--collision>
      <origin
        xyz="0 0 0"
        rpy="0 0 0" />
      <geometry>
        <mesh
          filename="../meshes/left_ankle_roll.STL" />
      </geometry>
    </collision> -->
    <!-- <collision name="sphere_0">
      <origin xyz="0.14510047719248328 0.03488016683742359 -0.0543" rpy="0 0 0" />
      <geometry>
        <sphere radius="0.005" />
      </geometry>
    </collision>
    <collision name="sphere_1">
      <origin xyz="0.1362737286637119 -0.03670809880638175 -0.0543" rpy="0 0 0" />
      <geometry>
        <sphere radius="0.005" />
      </geometry>
    </collision> -->
    <!-- <collision name="sphere_2">
      <origin xyz="0.17331249108346924 1.3877787807814457e-16 -0.0543" rpy="0 0 0" />
      <geometry>
        <sphere radius="0.005" />
      </geometry>
    </collision> -->
    <collision name="sphere_3">
      <origin xyz="0.16415224855553034 0.021665750055836652 -0.0543" rpy="0 0 0" />
      <geometry>
        <sphere radius="0.005" />
      </geometry>
    </collision>
    <collision name="sphere_4">
      <origin xyz="0.16066676593288481 -0.02593575164787594 -0.0543" rpy="0 0 0" />
      <geometry>
        <sphere radius="0.005" />
      </geometry>
    </collision>
    <collision name="sphere_5">
      <origin xyz="0.08723257764961784 -0.04228260033622884 -0.0543" rpy="0 0 0" />
      <geometry>
        <sphere radius="0.005" />
      </geometry>
    </collision>
    <collision name="sphere_6">
      <origin xyz="0.08394098118617516 0.04577473386145256 -0.0543" rpy="0 0 0" />
      <geometry>
        <sphere radius="0.005" />
      </geometry>
    </collision>
    <!-- <collision name="sphere_7">
      <origin xyz="-0.08703864878673495 1.6653345369377348e-16 -0.0543" rpy="0 0 0" />
      <geometry>
        <sphere radius="0.005" />
      </geometry>
    </collision> -->
    <collision name="sphere_8">
      <origin xyz="-0.08376870331854241 -0.015051946828539026 -0.0543" rpy="0 0 0" />
      <geometry>
        <sphere radius="0.005002053749531053" />
      </geometry>
    </collision>
    <collision name="sphere_9">
      <origin xyz="-0.08493076267088465 0.015214385642052408 -0.0543" rpy="0 0 0" />
      <geometry>
        <sphere radius="0.005002053749531053" />
      </geometry>
    </collision>
    <!-- <collision name="sphere_10">
      <origin xyz="-0.06815495329369187 0.028415035577317588 -0.0543" rpy="0 0 0" />
      <geometry>
        <sphere radius="0.005002053749531053" />
      </geometry>
    </collision> -->
    <!-- <collision name="sphere_11">
      <origin xyz="-0.0638108838768774 -0.02818641930029811 -0.0543" rpy="0 0 0" />
      <geometry>
        <sphere radius="0.005002053749531053" />
      </geometry>
    </collision> -->
    <collision name="sphere_12">
      <origin xyz="-0.039213569164691375 0.033239562866475725 -0.0543" rpy="0 0 0" />
      <geometry>
        <sphere radius="0.005002053749531053" />
      </geometry>
    </collision>
    <collision name="sphere_13">
      <origin xyz="-0.03449660750057197 -0.031854460056276956 -0.0543" rpy="0 0 0" />
      <geometry>
        <sphere radius="0.005002053749531053" />
      </geometry>
    </collision>
    <!-- <collision name="sphere_14">
      <origin xyz="0.0342044578642418 0.03856159461555872 -0.0543" rpy="0 0 0" />
      <geometry>
        <sphere radius="0.005002053749531053" />
      </geometry>
    </collision>
    <collision name="sphere_15">
      <origin xyz="0.03605500091767223 -0.03442112809881405 -0.0543" rpy="0 0 0" />
      <geometry>
        <sphere radius="0.005002053749531053" />
      </geometry>
    </collision> -->
  </link>
  <joint
    name="left_ankle_roll"
    type="revolute">
    <origin
      xyz="0 0 0"
      rpy="0 0 0" />
    <parent
      link="left_ankle_pitch" />
    <child
      link="left_ankle_roll" />
    <axis
      xyz="1 0 0" />
    <limit
      lower="-3.14"
      upper="3.14"
      effort="300.0"
      velocity="10.0" />
  </joint>
  <link
    name="right_hip_pitch">
    <inertial>
      <origin
        xyz="0.000953464436361407 -0.0567455355500224 4.80848299709014E-05"
        rpy="0 0 0" />
      <mass
        value="1.82518002" />
      <inertia
        ixx="0.00312969"
        ixy="0.00008870"
        ixz="-0.00000264"
        iyy="0.00285304"
        iyz="-0.00000042"
        izz="0.00311486" />
    </inertial>
    <visual>
      <origin
        xyz="0 0 0"
        rpy="0 0 0" />
      <geometry>
        <mesh
          filename="../meshes/right_hip_pitch.STL" />
      </geometry>
      <material
        name="">
        <color
          rgba="0.752941176470588 0.752941176470588 0.752941176470588 1" />
      </material>
    </visual>
    <!--collision>
      <origin
        xyz="0 0 0"
        rpy="0 0 0" />
      <geometry>
        <mesh
          filename="../meshes/right_hip_pitch.STL" />
      </geometry>
    </collision-->
  </link>
  <joint
    name="right_hip_pitch"
    type="revolute">
    <origin
      xyz="0.0010247 -0.096429 0.027623"
      rpy="0.7854 0 0" />
    <parent
      link="base" />
    <child
      link="right_hip_pitch" />
    <axis
      xyz="0 1 0" />
    <limit
      lower="-3.14"
      upper="3.14"
      effort="300.0"
      velocity="10.0" />
  </joint>
  <link
    name="right_hip_roll">
    <inertial>
      <origin
        xyz="-0.00213537343530021 4.14663841652452E-07 -0.029014188648969"
        rpy="0 0 0" />
      <mass
        value="0.880546804245556" />
      <inertia
        ixx="0.00232319"
        ixy="0.00000001"
        ixz="0.00003525"
        iyy="0.00296416"
        iyz="0.00000003"
        izz="0.00337622" />
    </inertial>
    <visual>
      <origin
        xyz="0 0 0"
        rpy="0 0 0" />
      <geometry>
        <mesh
          filename="../meshes/right_hip_roll.STL" />
      </geometry>
      <material
        name="">
        <color
          rgba="0.752941176470588 0.752941176470588 0.752941176470588 1" />
      </material>
    </visual>
    <!--collision>
      <origin
        xyz="0 0 0"
        rpy="0 0 0" />
      <geometry>
        <mesh
          filename="../meshes/right_hip_roll.STL" />
      </geometry>
    </collision-->

  </link>
  <joint
    name="right_hip_roll"
    type="revolute">
    <origin
      xyz="0 -0.067622 0"
      rpy="-0.7854 0 0" />
    <parent
      link="right_hip_pitch" />
    <child
      link="right_hip_roll" />
    <axis
      xyz="1 0 0" />
    <limit
      upper="3.14"
      lower="-3.14"
      effort="300.0"
      velocity="10.0" />
  </joint>
  <link
    name="right_hip_yaw">
    <inertial>
      <origin
        xyz="0.00577266180781425 -0.000472879882793709 -0.153068513808269"
        rpy="0 0 0" />
      <mass
        value="3.95440660" />
      <inertia
        ixx="0.05149004"
        ixy="-0.00002798"
        ixz="0.00132532"
        iyy="0.05200232"
        iyz="-0.00019645"
        izz="0.01283307" />
    </inertial>
    <visual>
      <origin
        xyz="0 0 0"
        rpy="0 0 0" />
      <geometry>
        <mesh
          filename="../meshes/right_hip_yaw.STL" />
      </geometry>
      <material
        name="">
        <color
          rgba="0.752941176470588 0.752941176470588 0.752941176470588 1" />
      </material>
    </visual>
    <!--collision>
      <origin
        xyz="0 0 0"
        rpy="0 0 0" />
      <geometry>
        <mesh
          filename="../meshes/right_hip_yaw.STL" />
      </geometry>
    </collision-->
    <collision>
      <origin
        xyz="0 0 -0.12"
        rpy="0 0 0" />
      <geometry>
        <box
          size="0.08 0.08 0.3"
        />
      </geometry>
    </collision>
  </link>
  <joint
    name="right_hip_yaw"
    type="revolute">
    <origin
      xyz="0.0018703 0 -0.074158"
      rpy="0 0 0" />
    <parent
      link="right_hip_roll" />
    <child
      link="right_hip_yaw" />
    <axis
      xyz="0 0 1" />
    <limit
      lower="-3.14"
      upper="3.14"
      effort="300.0"
      velocity="10.0" />
  </joint>
  <link
    name="right_knee_pitch">
    <inertial>
      <origin
        xyz="0.00391924967939787 0.000269788814078381 -0.157795637598538"
        rpy="0 0 0" />
      <mass
        value="6.59575179" />
      <inertia
        ixx="0.10699135"
        ixy="0.00003205"
        ixz="-0.00144109"
        iyy="0.10929003"
        iyz="-0.00197257"
        izz="0.01209759" />
    </inertial>
    <visual>
      <origin
        xyz="0 0 0"
        rpy="0 0 0" />
      <geometry>
        <mesh
          filename="../meshes/right_knee_pitch.STL" />
      </geometry>
      <material
        name="">
        <color
          rgba="0.752941176470588 0.752941176470588 0.752941176470588 1" />
      </material>
    </visual>
    <!--collision>
      <origin
        xyz="0 0 0"
        rpy="0 0 0" />
      <geometry>
        <mesh
          filename="../meshes/right_knee_pitch.STL" />
      </geometry>
    </collision-->
    <collision>
      <origin
        xyz="0 0 -0.22"
        rpy="0 0.05 0" />
      <geometry>
          <box
          size="0.08 0.08 0.4"
        />
      </geometry>
    </collision>
  </link>
  <joint
    name="right_knee_pitch"
    type="revolute">
    <origin
      xyz="-0.0099604 0 -0.30584"
      rpy="0 0 0" />
    <parent
      link="right_hip_yaw" />
    <child
      link="right_knee_pitch" />
    <axis
      xyz="0 1 0" />
    <limit
      lower="-3.14"
      upper="3.14"
      effort="300.0"
      velocity="10.0" />
  </joint>
  <link
    name="right_ankle_pitch">
    <inertial>
      <origin
        xyz="-1.59129985240897E-07 5.15849671312019E-09 3.97430611753791E-08"
        rpy="0 0 0" />
      <mass
        value="0.0512327452464081" />
      <inertia
        ixx="0.00000658"
        ixy="0.00000000"
        ixz="0.00000000"
        iyy="0.00000670"
        iyz="0.00000000"
        izz="0.00000917" />
    </inertial>
    <visual>
      <origin
        xyz="0 0 0"
        rpy="0 0 0" />
      <geometry>
        <mesh
          filename="../meshes/right_ankle_pitch.STL" />
      </geometry>
      <material
        name="">
        <color
          rgba="1 1 1 1" />
      </material>
    </visual>
    <!--collision>
      <origin
        xyz="0 0 0"
        rpy="0 0 0" />
      <geometry>
        <mesh
          filename="../meshes/right_ankle_pitch.STL" />
      </geometry>
    </collision-->
  </link>
  <joint
    name="right_ankle_pitch"
    type="revolute">
    <origin
      xyz="0.0014547 0 -0.43469"
      rpy="0 0 0" />
    <parent
      link="right_knee_pitch" />
    <child
      link="right_ankle_pitch" />
    <axis
      xyz="0 1 0" />
    <limit
      upper="3.14"
      lower="-3.14"
      effort="300.0"
      velocity="10.0" />
  </joint>
  <link
    name="right_ankle_roll">
    <inertial>
      <origin
        xyz="0.030867628467181 -0.000617207669286995 -0.025306814425915"
        rpy="0 0 0" />
      <mass
        value="1.87934875090907" />
      <inertia
        ixx="0.00619901"
        ixy="0.00011866"
        ixz="0.00243055"
        iyy="0.01491229"
        iyz="-0.00027631"
        izz="0.01059010" />
    </inertial>
    <visual>
      <origin
        xyz="0 0 0"
        rpy="0 0 0" />
      <geometry>
        <mesh
          filename="../meshes/right_ankle_roll.STL" />
      </geometry>
      <material
        name="">
        <color
          rgba="0.752941176470588 0.752941176470588 0.752941176470588 1" />
      </material>
    </visual>
    <!-- <collision>
      <origin
        xyz="0 0 0"
        rpy="0 0 0" />
      <geometry>
        <mesh
          filename="../meshes/right_ankle_roll.STL" />
      </geometry>
    </collision> -->
    <!-- <collision name="sphere_0">
      <origin xyz="0.14510047719248328 -0.03488016683742359 -0.0543" rpy="0 0 0" />
      <geometry>
        <sphere radius="0.005" />
      </geometry>
    </collision>
    <collision name="sphere_1">
      <origin xyz="0.1362737286637119 0.03670809880638175 -0.0543" rpy="0 0 0" />
      <geometry>
        <sphere radius="0.005" />
      </geometry>
    </collision>
    <collision name="sphere_2">
      <origin xyz="0.17331249108346924 -1.3877787807814457e-16 -0.0543" rpy="0 0 0" />
      <geometry>
        <sphere radius="0.005" />
      </geometry>
    </collision> -->
    <collision name="sphere_3">
      <origin xyz="0.16415224855553034 -0.021665750055836652 -0.0543" rpy="0 0 0" />
      <geometry>
        <sphere radius="0.005" />
      </geometry>
    </collision>
    <collision name="sphere_4">
      <origin xyz="0.16066676593288481 0.02593575164787594 -0.0543" rpy="0 0 0" />
      <geometry>
        <sphere radius="0.005" />
      </geometry>
    </collision>
    <collision name="sphere_5">
      <origin xyz="0.08723257764961784 0.04228260033622884 -0.0543" rpy="0 0 0" />
      <geometry>
        <sphere radius="0.005" />
      </geometry>
    </collision>
    <collision name="sphere_6">
      <origin xyz="0.08394098118617516 -0.04577473386145256 -0.0543" rpy="0 0 0" />
      <geometry>
        <sphere radius="0.005" />
      </geometry>
    </collision>
    <!-- <collision name="sphere_7">
      <origin xyz="-0.08703864878673495 -1.6653345369377348e-16 -0.0543" rpy="0 0 0" />
      <geometry>
        <sphere radius="0.005" />
      </geometry>
    </collision> -->
    <collision name="sphere_8">
      <origin xyz="-0.08376870331854241 0.015051946828539026 -0.0543" rpy="0 0 0" />
      <geometry>
        <sphere radius="0.005002053749531053" />
      </geometry>
    </collision>
    <collision name="sphere_9">
      <origin xyz="-0.08493076267088465 -0.015214385642052408 -0.0543" rpy="0 0 0" />
      <geometry>
        <sphere radius="0.005002053749531053" />
      </geometry>
    </collision>
    <!-- <collision name="sphere_10">
      <origin xyz="-0.06815495329369187 -0.028415035577317588 -0.0543" rpy="0 0 0" />
      <geometry>
        <sphere radius="0.005002053749531053" />
      </geometry>
    </collision>
    <collision name="sphere_11">
      <origin xyz="-0.0638108838768774 0.02818641930029811 -0.0543" rpy="0 0 0" />
      <geometry>
        <sphere radius="0.005002053749531053" />
      </geometry>
    </collision> -->
    <collision name="sphere_12">
      <origin xyz="-0.039213569164691375 -0.033239562866475725 -0.0543" rpy="0 0 0" />
      <geometry>
        <sphere radius="0.005002053749531053" />
      </geometry>
    </collision>
    <collision name="sphere_13">
      <origin xyz="-0.03449660750057197 0.031854460056276956 -0.0543" rpy="0 0 0" />
      <geometry>
        <sphere radius="0.005002053749531053" />
      </geometry>
    </collision>
    <!-- <collision name="sphere_14">
      <origin xyz="0.0342044578642418 -0.03856159461555872 -0.0543" rpy="0 0 0" />
      <geometry>
        <sphere radius="0.005002053749531053" />
      </geometry>
    </collision>
    <collision name="sphere_15">
      <origin xyz="0.03605500091767223 0.03442112809881405 -0.0543" rpy="0 0 0" />
      <geometry>
        <sphere radius="0.005002053749531053" />
      </geometry>
    </collision> -->
  </link>
  <joint
    name="right_ankle_roll"
    type="revolute">
    <origin
      xyz="0 0 0"
      rpy="0 0 0" />
    <parent
      link="right_ankle_pitch" />
    <child
      link="right_ankle_roll" />
    <axis
      xyz="1 0 0" />
    <limit
      lower="-3.14"
      upper="3.14"
      effort="300.0"
      velocity="10.0" />
  </joint>
</robot>
